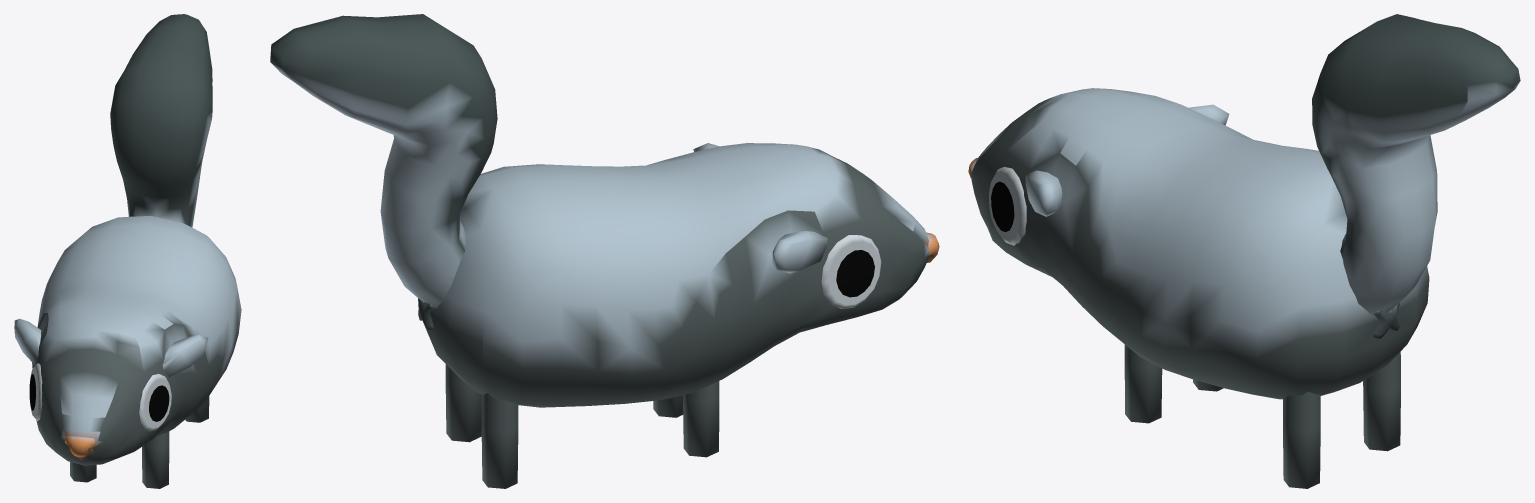
Rendered from Skunk.glb.
3 views of the same model, side by side, from view 1: azimuth 30°, elevation 25°; view 2: azimuth 150°, elevation 25°; view 3: azimuth 270°, elevation 25° (orthographic). The views are drawn at different scales.
Parts seen in each view (by area): view 1: 152; view 2: 152; view 3: 152.
Boxes of the visible parts, box(x1,y1,x2,y2) form: 152: box(14, 14, 241, 488); 152: box(270, 14, 939, 488); 152: box(968, 14, 1520, 488).
Size of the model in its own units: 0.8101 by 0.8448 by 0.893.
